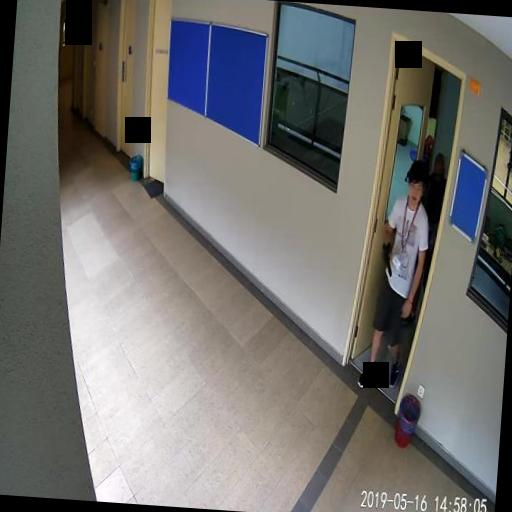Handgun: (380, 240, 393, 274)
